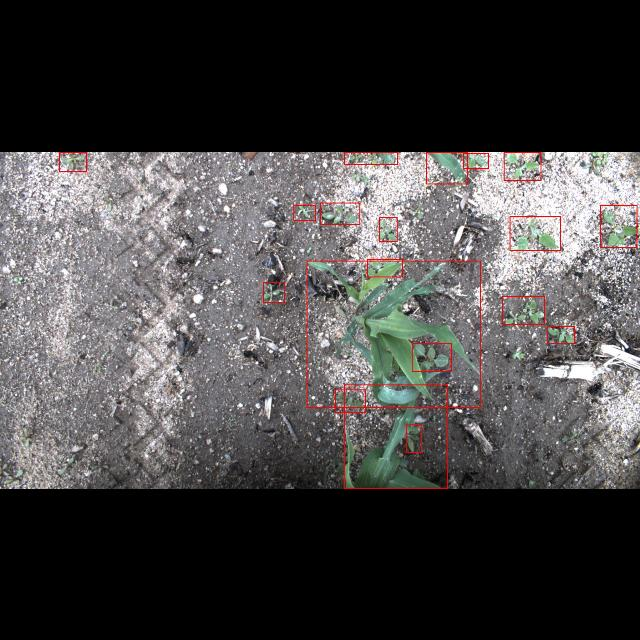crop: (308, 260, 480, 408), (344, 384, 448, 488), (427, 151, 468, 183)
weed: (510, 216, 560, 250), (601, 204, 637, 246), (502, 296, 544, 324), (412, 343, 452, 371), (504, 151, 540, 179), (320, 202, 360, 224), (335, 390, 365, 412), (344, 151, 398, 163), (368, 258, 402, 276), (59, 151, 86, 171), (379, 216, 397, 242), (547, 326, 575, 342), (406, 424, 422, 452), (263, 282, 285, 302), (464, 152, 488, 168), (294, 204, 316, 220)
